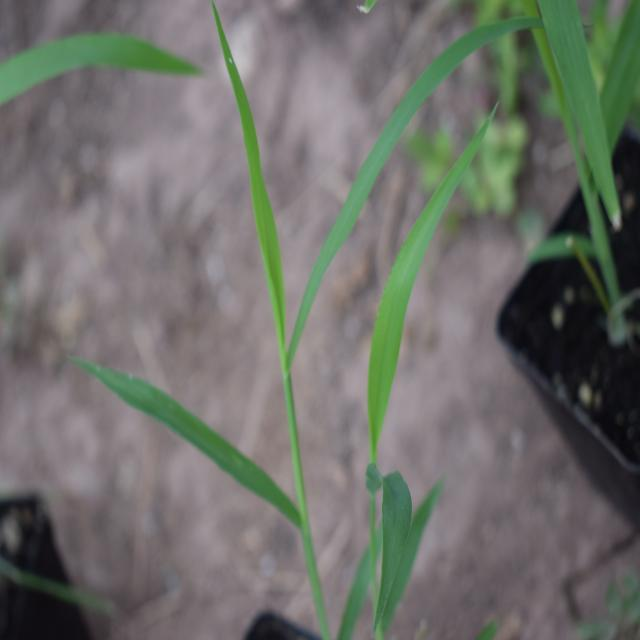crabgrass: (156, 49, 445, 578)
